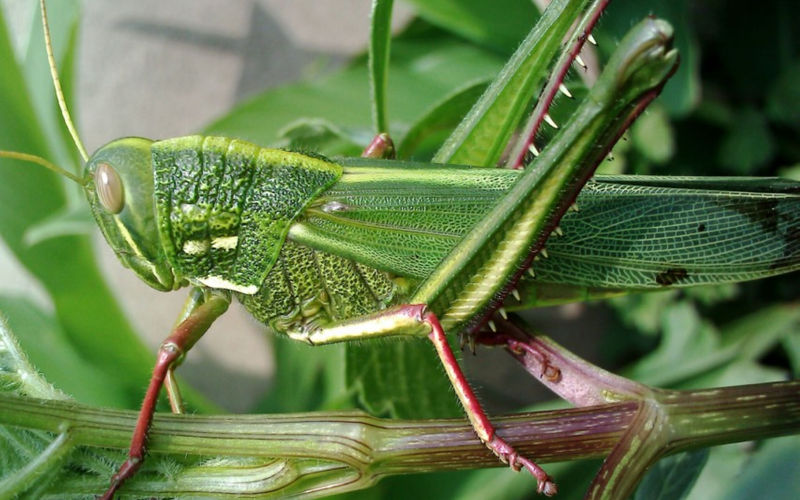huangchong: (75, 84, 800, 411)
